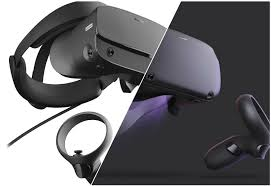oculus: (34, 2, 167, 93), (145, 26, 224, 120)
